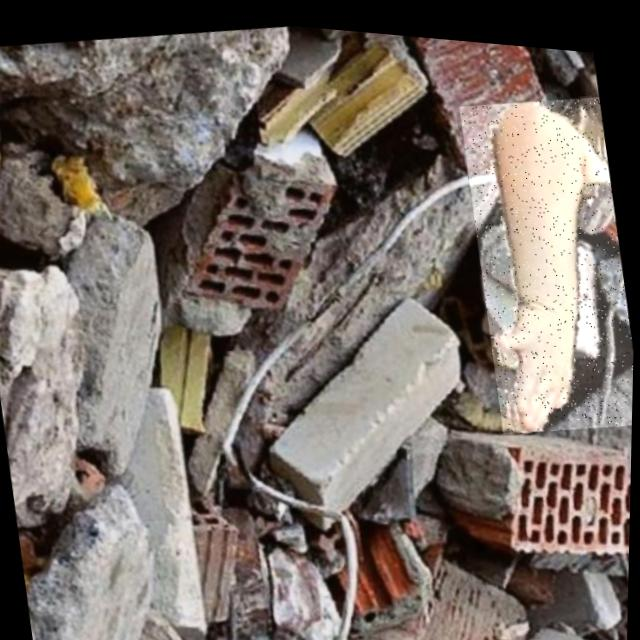Person in Rubble: (453, 76, 639, 434)
